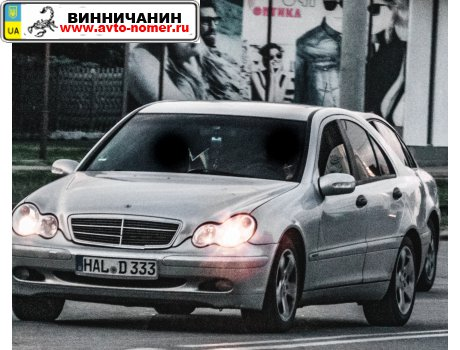License Plates: (83, 255, 159, 276)
